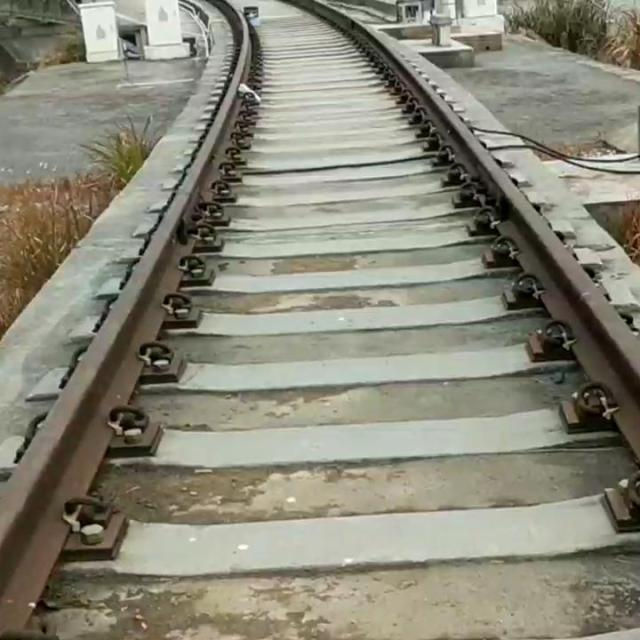rail: (0, 0, 251, 640), (314, 0, 640, 464)
